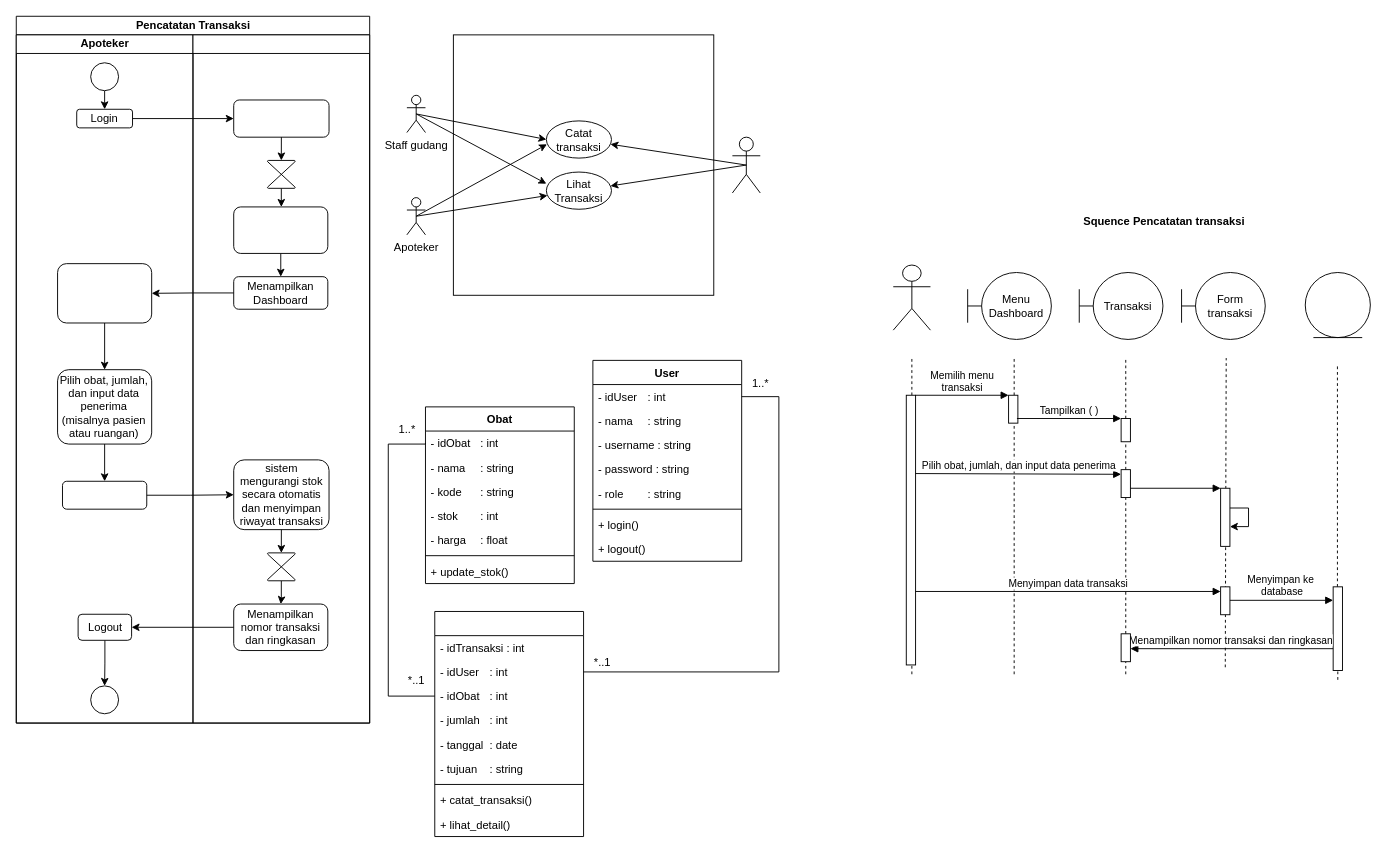
This 1387x856 diagram has some shape labels left out. The shapes that lost their labels are listed below. From the top down, each one's box as (x1, y1, x2, y2) in pixels, then its label:
(233, 99, 329, 137): Memverifikasi level akses
(731, 136, 760, 193): Admin
(233, 206, 328, 253): Level akses diverifikasi sebagai Apoteker
(57, 263, 152, 323): Akses menu "Transakasi Penggunaan obat"
(892, 264, 930, 330): Admin/Apoteker
(1304, 272, 1370, 338): Database
(192, 34, 370, 723): system
(62, 480, 147, 509): Klik "Simpan"
(434, 611, 584, 837): Transaksi pengguna
